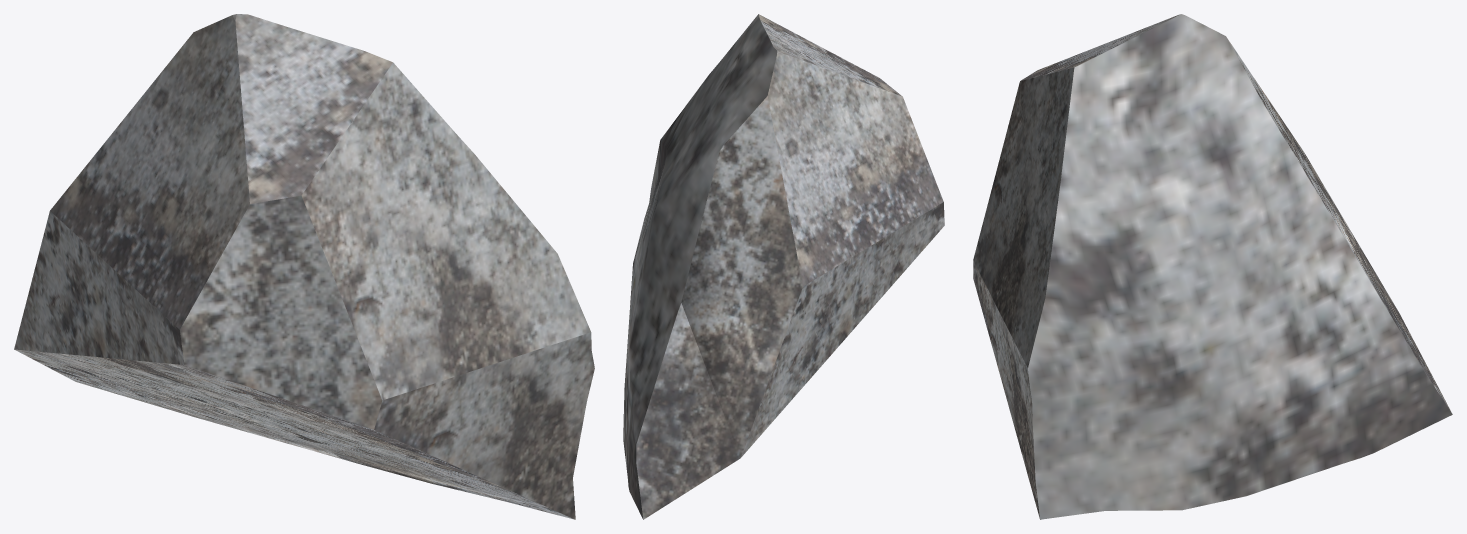
File: Asteroid_Large_001_02_006_03_007.fbx
The picture shows the model from 3 angles, left to right: view 1: azimuth 30°, elevation 25°; view 2: azimuth 150°, elevation 25°; view 3: azimuth 270°, elevation 25°; orthographic projection. The views are drawn at different scales.
Parts seen in each view (by area): view 1: Asteroid_Large_001_02_006_03_007; view 2: Asteroid_Large_001_02_006_03_007; view 3: Asteroid_Large_001_02_006_03_007.
Part boxes in pixels (x1,y1,x2,y2): Asteroid_Large_001_02_006_03_007: (14, 14, 594, 519); Asteroid_Large_001_02_006_03_007: (623, 14, 944, 519); Asteroid_Large_001_02_006_03_007: (973, 14, 1452, 519).
Size of the model in its own units: 8.69 by 10.67 by 11.08.
